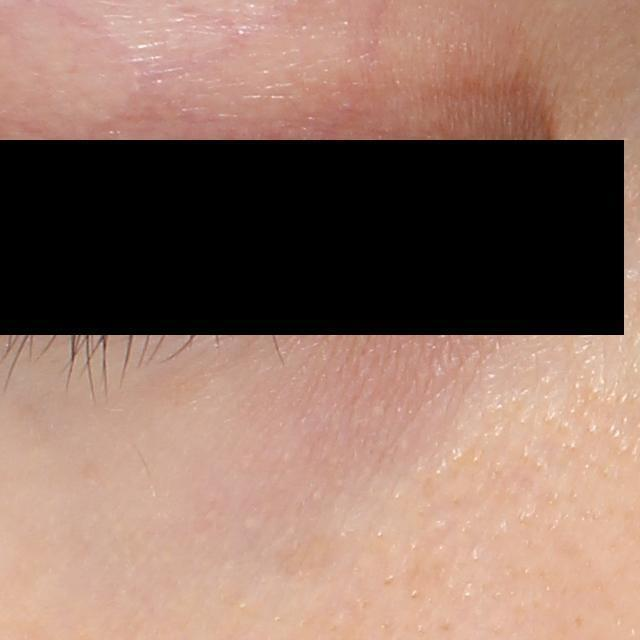melasma: (273, 527, 363, 582), (142, 372, 203, 430)
